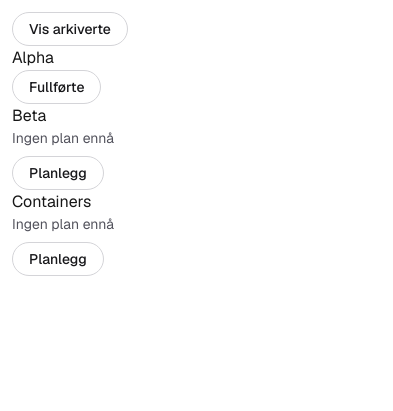
Test: RoadmapPlanningScope › keeps completed plans behind a 'Fullførte' toggle
Expected: the text "Lav" is not shown
Click the button "Fullførte".
click(57, 87)  # box [12,70,102,104]
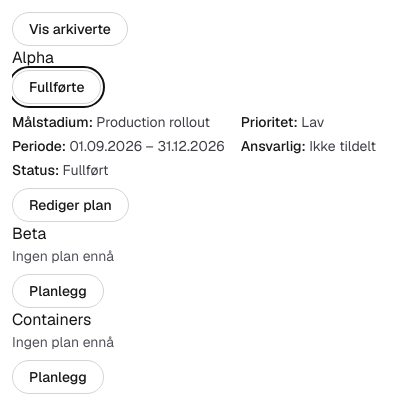
Expected: the text "Lav" is shown, [301,113,324,131]
